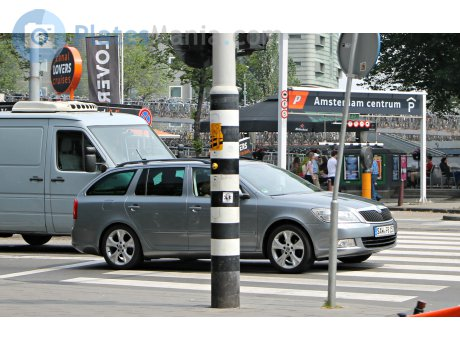License Plates: (379, 226, 397, 233)
